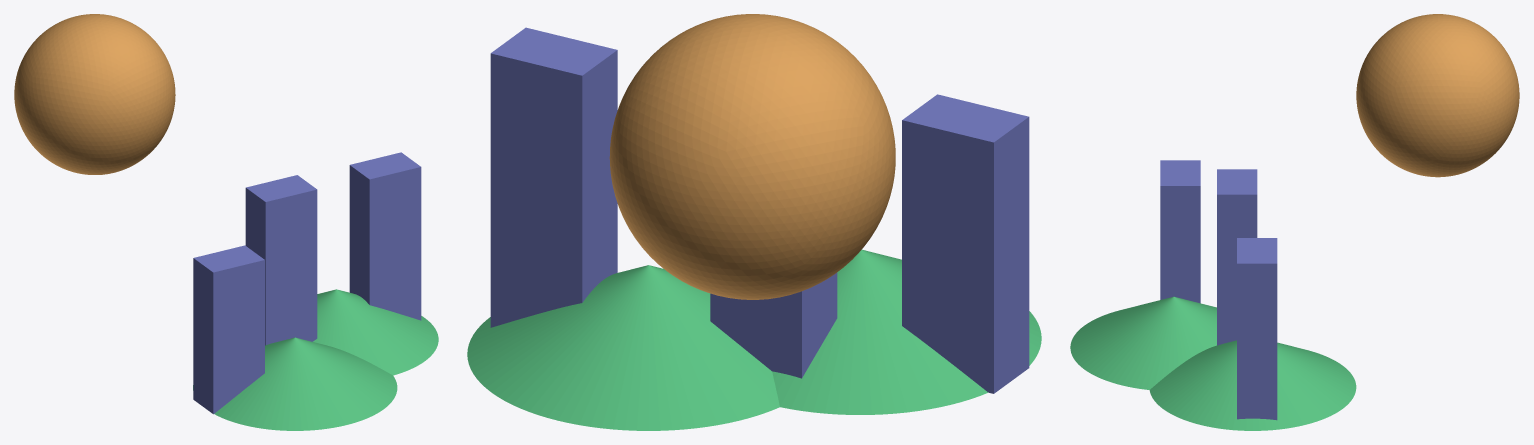
Rendered from rogo.glb.
3 views of the same model, side by side, from view 1: azimuth 30°, elevation 25°; view 2: azimuth 150°, elevation 25°; view 3: azimuth 270°, elevation 25° (orthographic). The views are drawn at different scales.
Size of the model in its own units: 0.2114 by 0.1886 by 0.2634.
